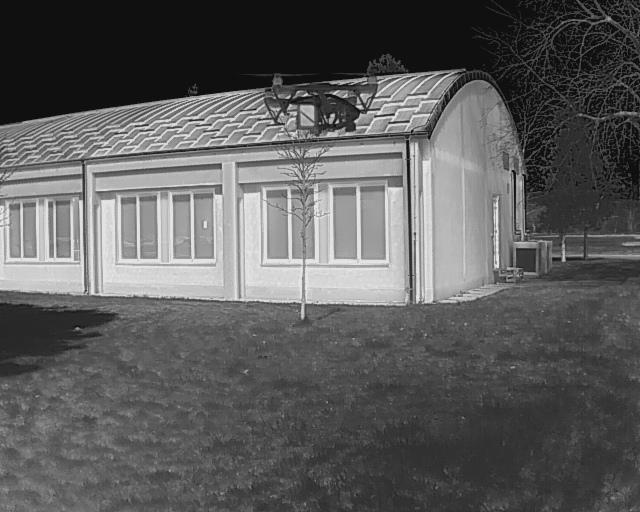drone: (237, 51, 401, 147)
